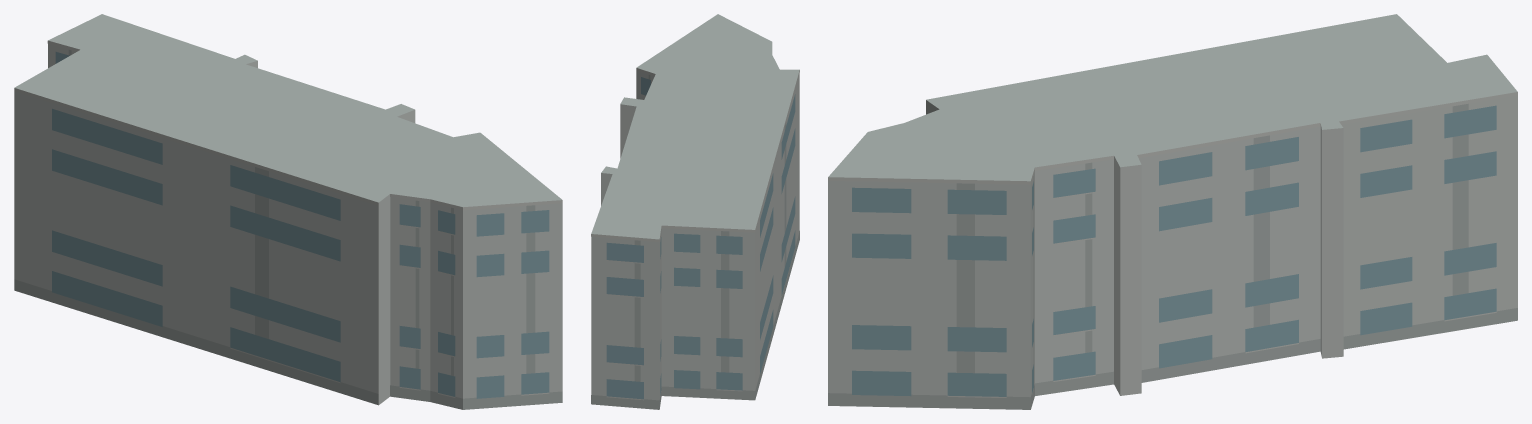
File: survey-upis-32806052.glb
3 renders of one model, left to right at view 1: azimuth 30°, elevation 25°; view 2: azimuth 150°, elevation 25°; view 3: azimuth 270°, elevation 25°, orthographic. The views are drawn at different scales.
Visible parts, largest first — view 1: survey-upis-32806052.tmp; view 2: survey-upis-32806052.tmp; view 3: survey-upis-32806052.tmp.
Part boxes in pixels (<box>): survey-upis-32806052.tmp: <box>14,14,562,409</box>; survey-upis-32806052.tmp: <box>591,14,799,409</box>; survey-upis-32806052.tmp: <box>828,14,1517,409</box>.
Size of the model in its own units: 23.92 by 15.25 by 41.69.
